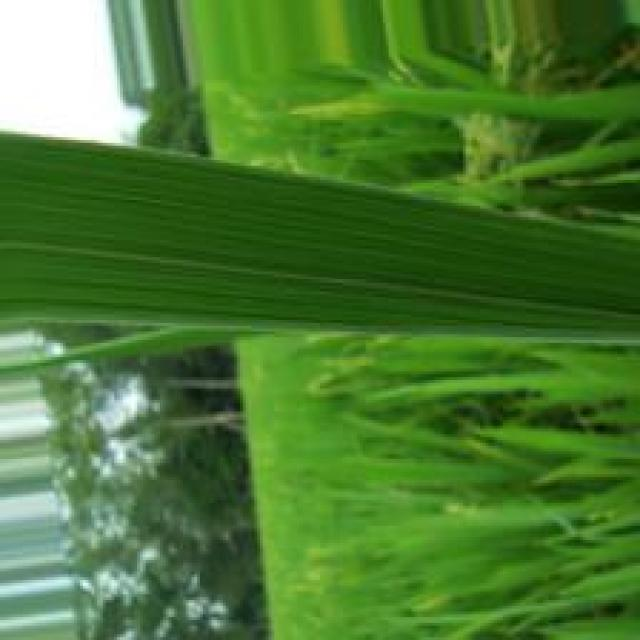HealthyLeaf: (0, 133, 640, 344)
